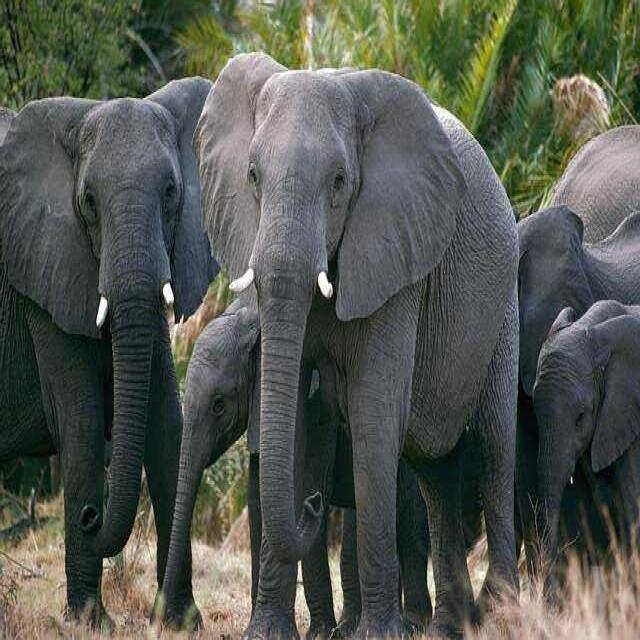Elephant: (191, 49, 522, 639), (0, 74, 221, 634)
